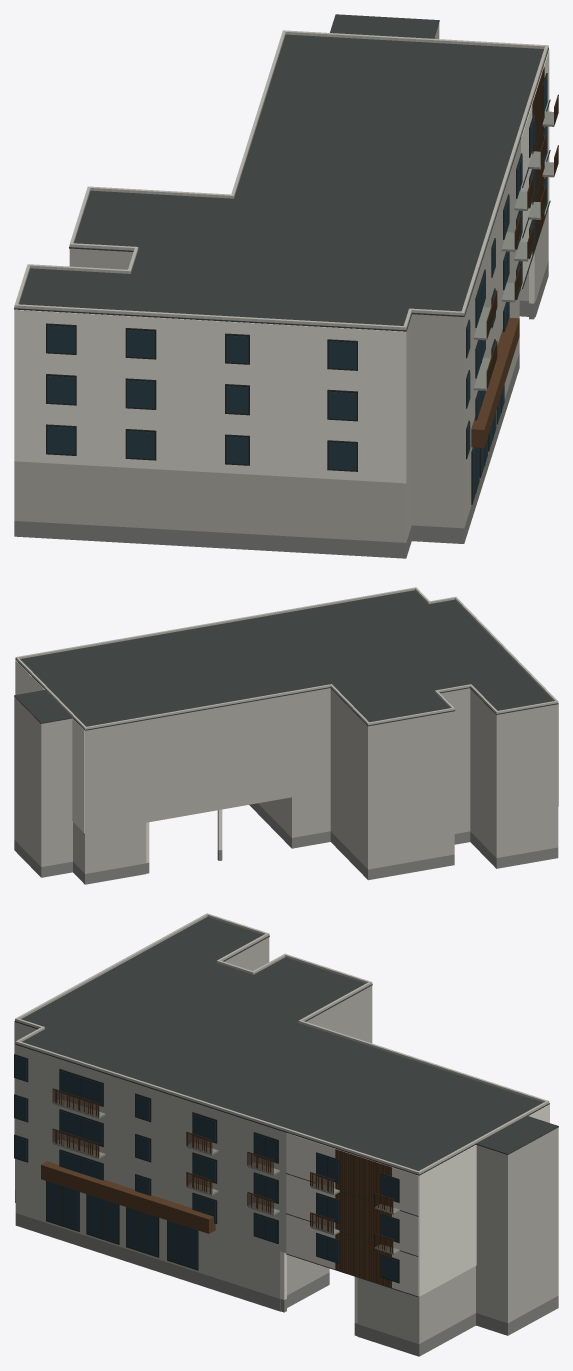
Rendered from creekside-early-plan-exterior-study.glb.
3 renders of one model, top to bottom at view 1: azimuth 30°, elevation 25°; view 2: azimuth 150°, elevation 25°; view 3: azimuth 270°, elevation 25°, orthographic. The views are drawn at different scales.
Parts seen in each view (by area): view 1: Creekside roof, Creekside white, Creekside brick, Creekside glass, Creekside stone, Creekside frame, Creekside rail, Creekside wood; view 2: Creekside brick, Creekside roof, Creekside stone, Creekside white; view 3: Creekside roof, Creekside brick, Creekside glass, Creekside white, Creekside rail, Creekside stone, Creekside wood, Creekside frame.
Boxes of the visible parts, <box> form: Creekside roof: <box>14,14,548,331</box>; Creekside white: <box>14,49,549,483</box>; Creekside brick: <box>14,23,548,542</box>; Creekside glass: <box>47,75,547,502</box>; Creekside stone: <box>14,111,555,558</box>; Creekside frame: <box>46,73,550,504</box>; Creekside rail: <box>486,67,558,388</box>; Creekside wood: <box>471,67,544,447</box>; Creekside brick: <box>14,587,558,873</box>; Creekside roof: <box>14,590,558,730</box>; Creekside stone: <box>14,803,558,884</box>; Creekside white: <box>15,660,558,862</box>; Creekside roof: <box>14,917,558,1175</box>; Creekside brick: <box>15,913,558,1343</box>; Creekside glass: <box>14,1056,398,1281</box>; Creekside white: <box>14,1022,549,1323</box>; Creekside rail: <box>52,1088,394,1287</box>; Creekside stone: <box>15,1099,558,1356</box>; Creekside wood: <box>41,1149,391,1287</box>; Creekside frame: <box>14,1054,418,1296</box>.
Size of the model in its own units: 44.38 by 14.65 by 39.28.
